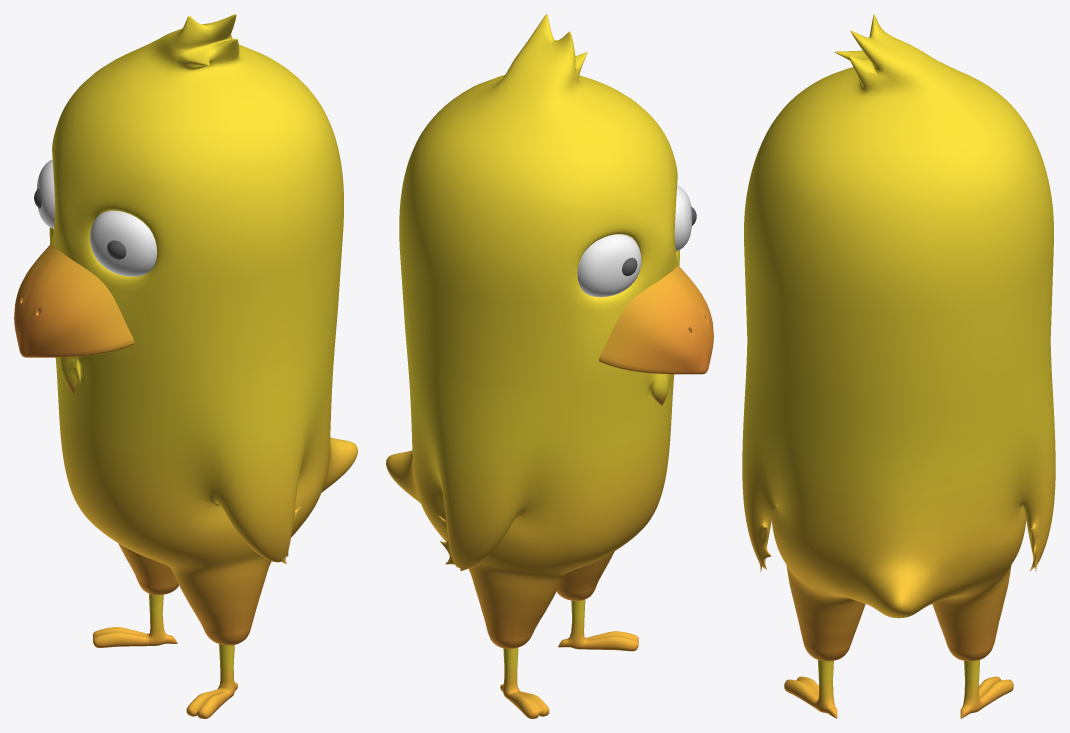
Rendered from PATO.fbx.
3 renders of one model, left to right at view 1: azimuth 30°, elevation 25°; view 2: azimuth 150°, elevation 25°; view 3: azimuth 270°, elevation 25°, orthographic. The views are drawn at different scales.
Visible parts, largest first — view 1: chicky; view 2: chicky; view 3: chicky.
Part boxes in pixels (x1,y1,x2,y2): chicky: [14, 14, 357, 718]; chicky: [386, 14, 713, 718]; chicky: [742, 14, 1055, 718].
Bounding box in the file's own units: 77.94 × 60.94 × 148.
Materials: 3 (1 with a texture image).
